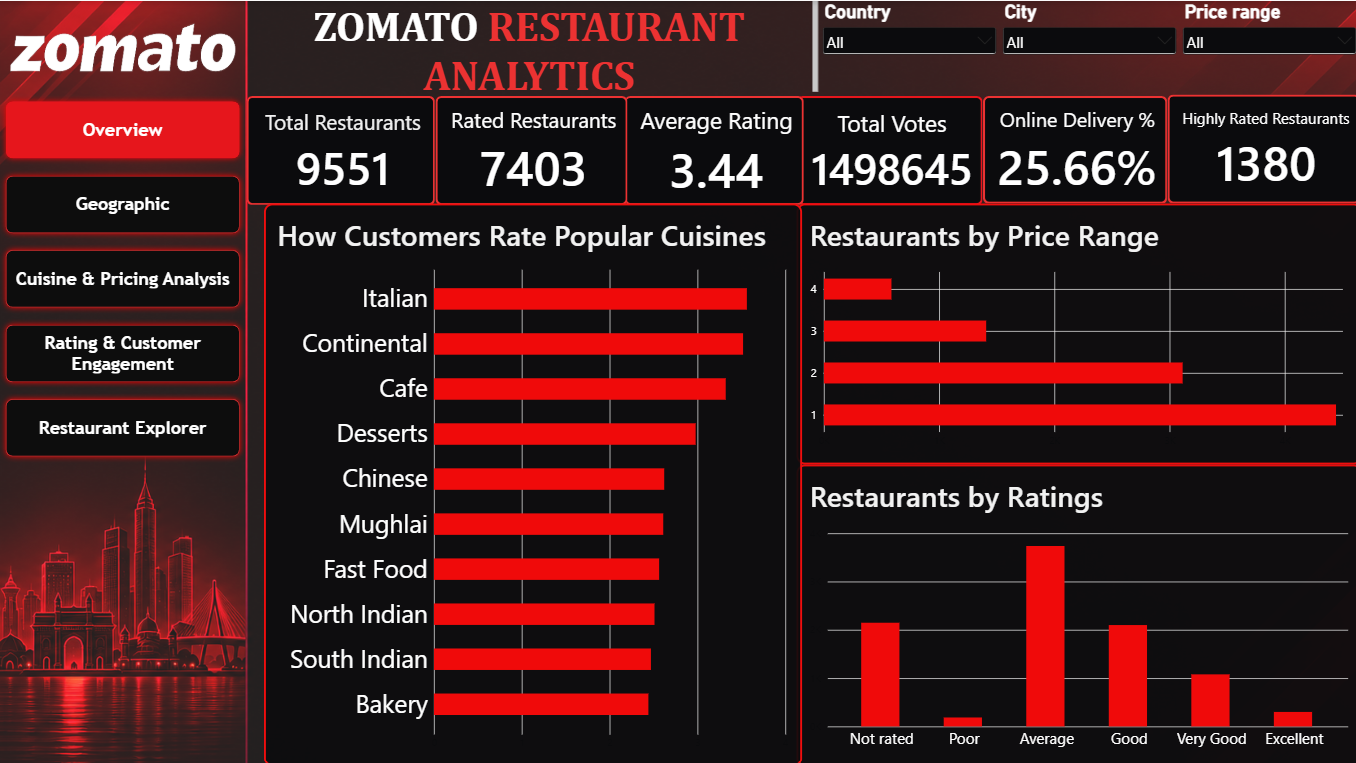

What the dashboard file says about the page in this screenshot:
{"tool":"powerbi","page":{"name":"Overview","canvas":[1920,1080],"ordinal":0},"visuals":[{"type":"cardVisual","fields":{"Data":["Measures (2).Total Restaurants"]},"box":[1123,133.2,262.3,154.4],"z":0},{"type":"cardVisual","fields":{"Data":["Measures (2).Total Restaurants"]},"box":[346.8,133.2,266.5,154.4],"z":1000},{"type":"cardVisual","fields":{"Data":["Measures (2).Average Rating"]},"box":[879.8,133.2,253.2,154.7],"z":2000},{"type":"cardVisual","fields":{"Data":["Measures (2).Rated Restaurants"]},"box":[613.3,133.2,272,154.7],"z":3000},{"type":"cardVisual","fields":{"Data":["Measures (2).Online Delivery %"]},"box":[1385.3,133.2,260.1,152.3],"z":4000},{"type":"cardVisual","fields":{"Data":["Measures (2).Highly Rated Restaurants"]},"box":[1645.4,131.1,272.8,154.4],"z":5000},{"type":"clusteredColumnChart","title":"Restaurants by Ratings","fields":{"Category":["Rating_Sort.Rating text"],"Y":["CountNonNull(Zomato_Cleaned_v2.Restaurant ID)"]},"box":[1123,654.1,797.1,426.7],"z":6000},{"type":"clusteredBarChart","title":"Restaurants by Price Range","fields":{"Category":["Zomato_Cleaned_v2.Price range"],"Y":["CountNonNull(Zomato_Cleaned_v2.Restaurant ID)"]},"box":[1123,286,797.1,368.1],"z":7000},{"type":"clusteredBarChart","title":"How Customers Rate Popular Cuisines","fields":{"Category":["Cuisine_ Analysis.Cuisines"],"Y":["Cuisine_ Analysis.Average Cuisine Rating"]},"box":[372.8,286,758.4,794.4],"z":8000},{"type":"slicer","fields":{"Values":["Country.Country"]},"box":[1154.4,0,255.1,102],"z":9000},{"type":"slicer","fields":{"Values":["Zomato_Cleaned_v2.City"]},"box":[1408.8,0,255.1,102],"z":10000},{"type":"slicer","fields":{"Values":["Zomato_Cleaned_v2.Price range"]},"box":[1663.2,0,255.1,102],"z":11000},{"type":"pageNavigator","box":[0,133.6,347,520.5],"z":12000},{"type":"textbox","box":[347,0,806.5,133.6],"z":13000},{"type":"image","box":[0,0,347,131.3],"z":14000}]}

Visuals, with their boxes in screenshot pixels (x1, y1, x2, y2), scaled from the page's 1920x1080 canvas onto the 1356x763 screenshot:
cardVisual - Measures (2).Total Restaurants: [left=793, top=94, right=978, bottom=203]
cardVisual - Measures (2).Total Restaurants: [left=245, top=94, right=433, bottom=203]
cardVisual - Measures (2).Average Rating: [left=621, top=94, right=800, bottom=203]
cardVisual - Measures (2).Rated Restaurants: [left=433, top=94, right=625, bottom=203]
cardVisual - Measures (2).Online Delivery %: [left=978, top=94, right=1162, bottom=202]
cardVisual - Measures (2).Highly Rated Restaurants: [left=1162, top=93, right=1355, bottom=202]
"Restaurants by Ratings" clusteredColumnChart: [left=793, top=462, right=1355, bottom=762]
"Restaurants by Price Range" clusteredBarChart: [left=793, top=202, right=1355, bottom=462]
"How Customers Rate Popular Cuisines" clusteredBarChart: [left=263, top=202, right=799, bottom=762]
slicer - Country.Country: [left=815, top=0, right=995, bottom=72]
slicer - Zomato_Cleaned_v2.City: [left=995, top=0, right=1175, bottom=72]
slicer - Zomato_Cleaned_v2.Price range: [left=1175, top=0, right=1355, bottom=72]
pageNavigator: [left=0, top=94, right=245, bottom=462]
textbox: [left=245, top=0, right=815, bottom=94]
image: [left=0, top=0, right=245, bottom=93]
